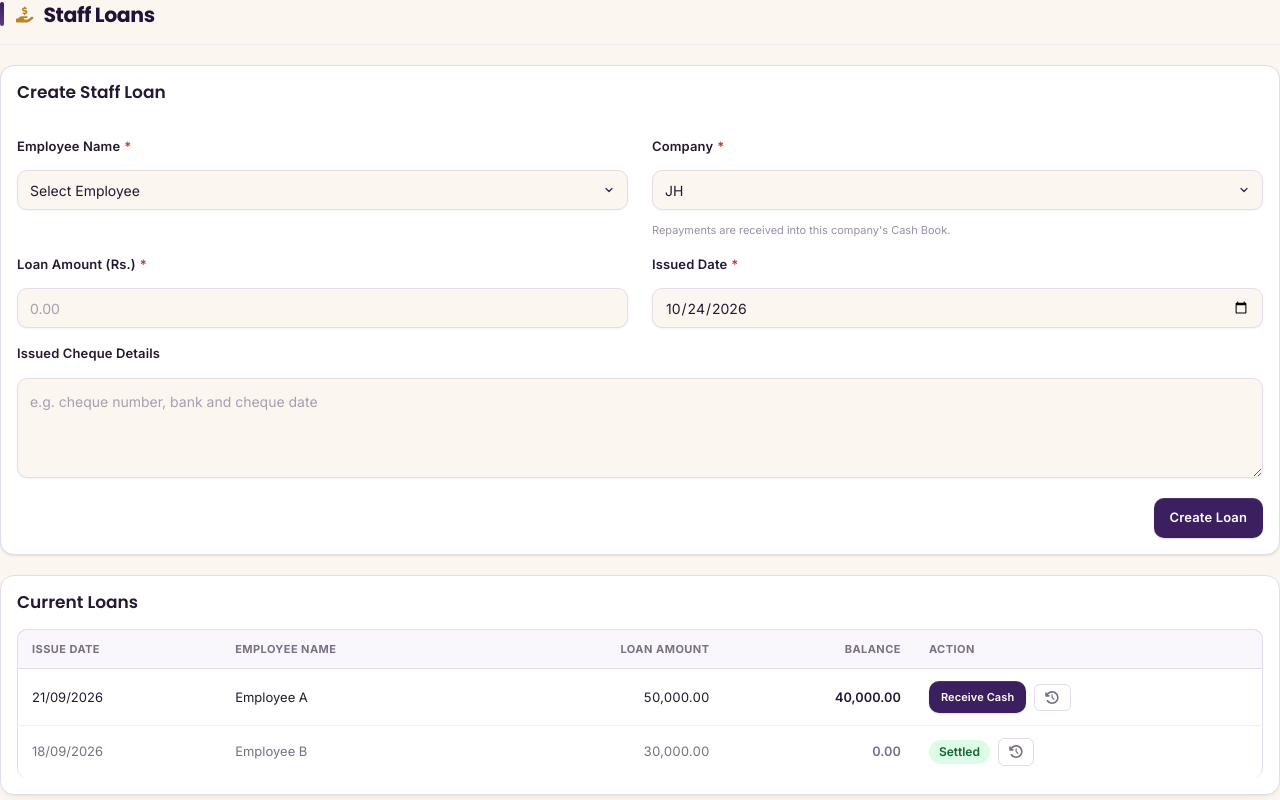
StaffLoans page › creating a loan posts the entered values and reloads the list from the API
Select "Employee A (EMP-001)" in the dropdown labelled "Employee Name *" at point(322, 190), box 17,170 -> 628,210
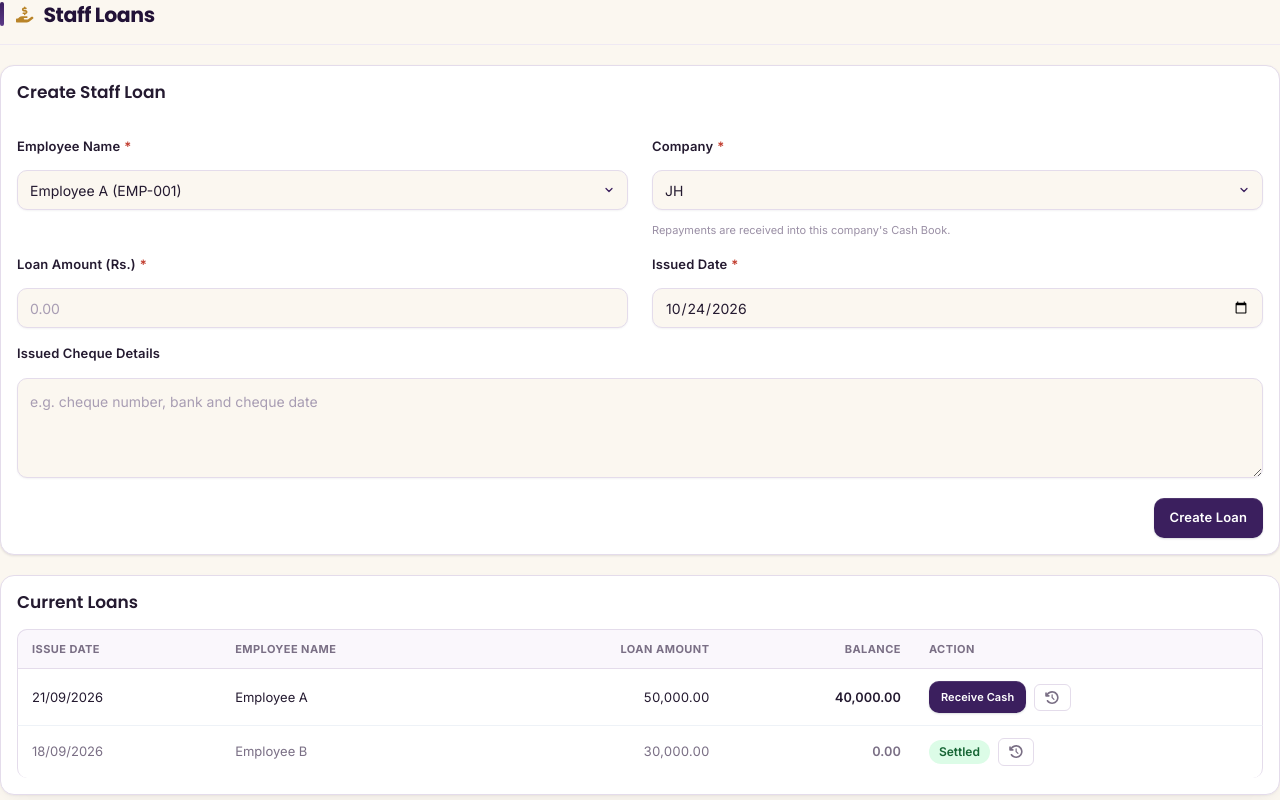
Type "50000" into the number field labelled "Loan Amount (Rs.) *" at point(322, 308), box 17,288 -> 628,328
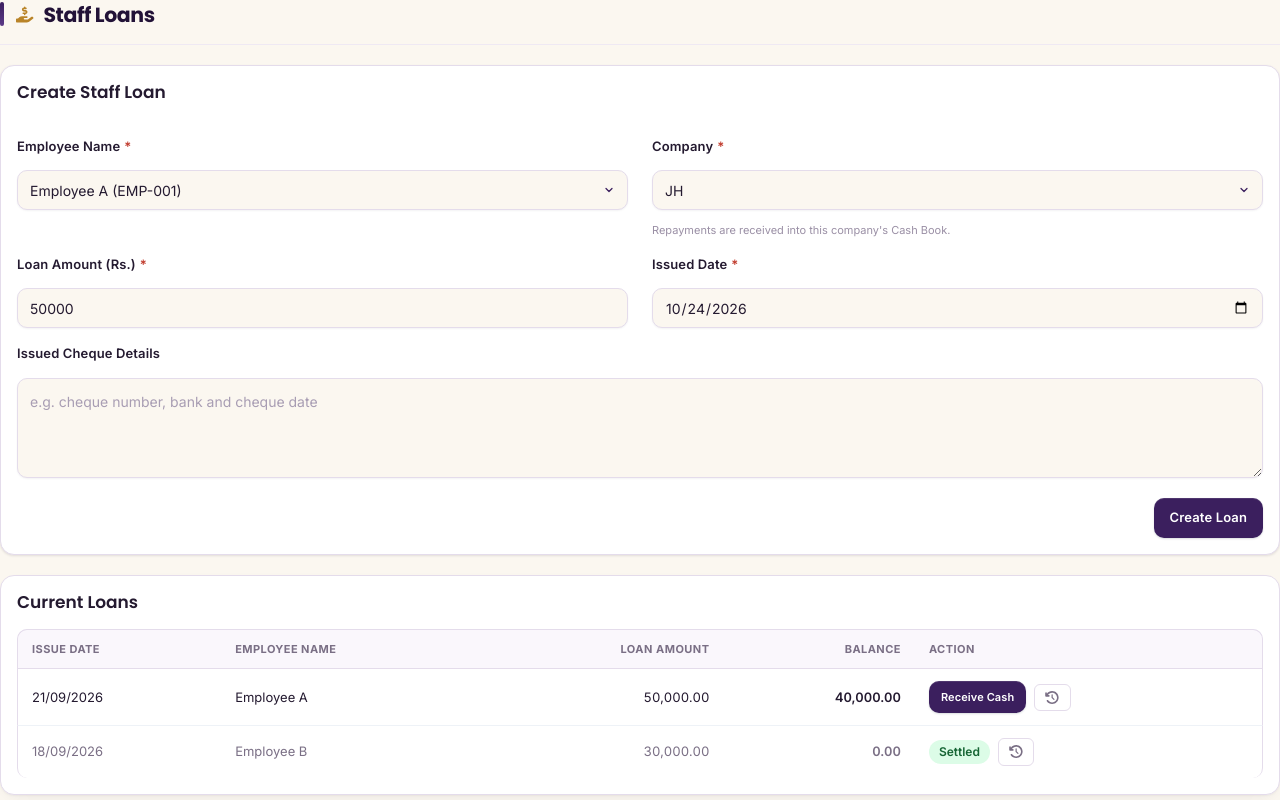
Type "2026-09-21" into the date field labelled "Issued Date *" at point(958, 308), box 652,288 -> 1263,328
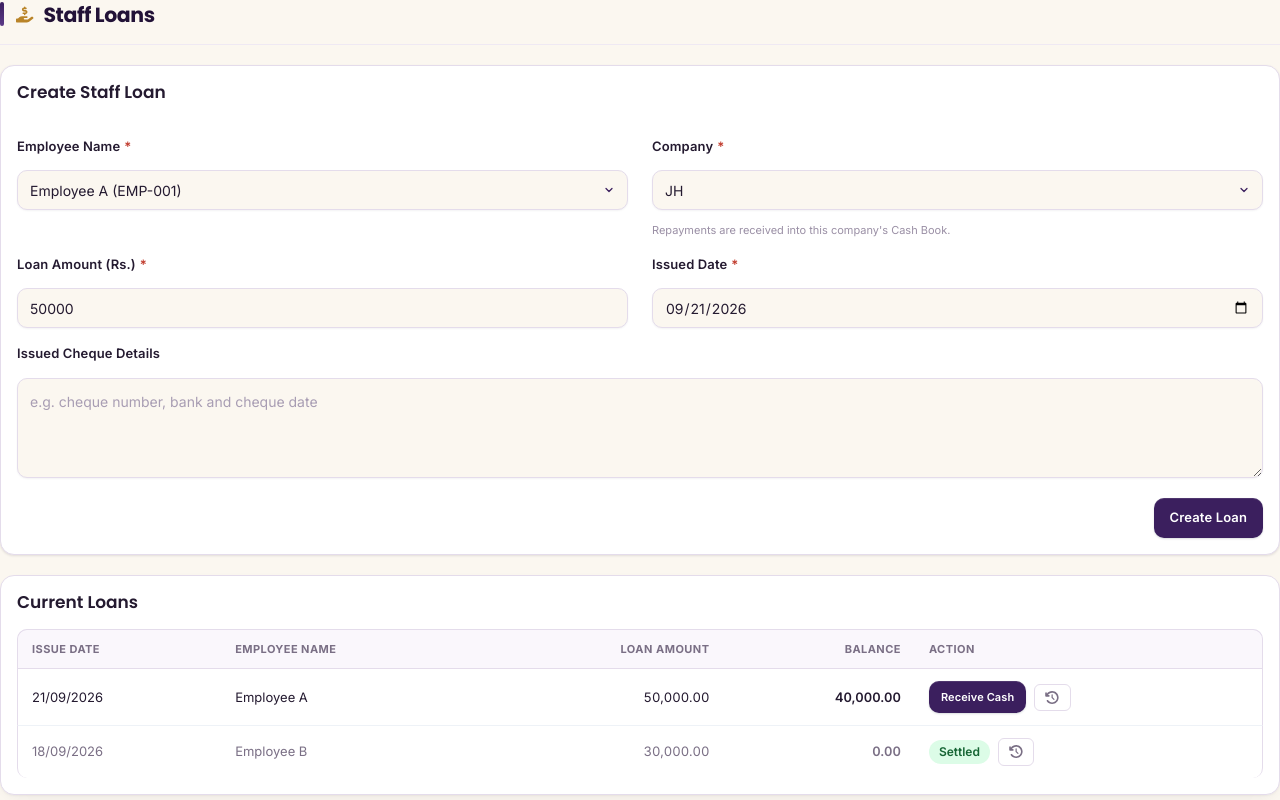
Type "CHQ 000123" into the text box labelled "Issued Cheque Details" at point(640, 428), box 17,378 -> 1263,478
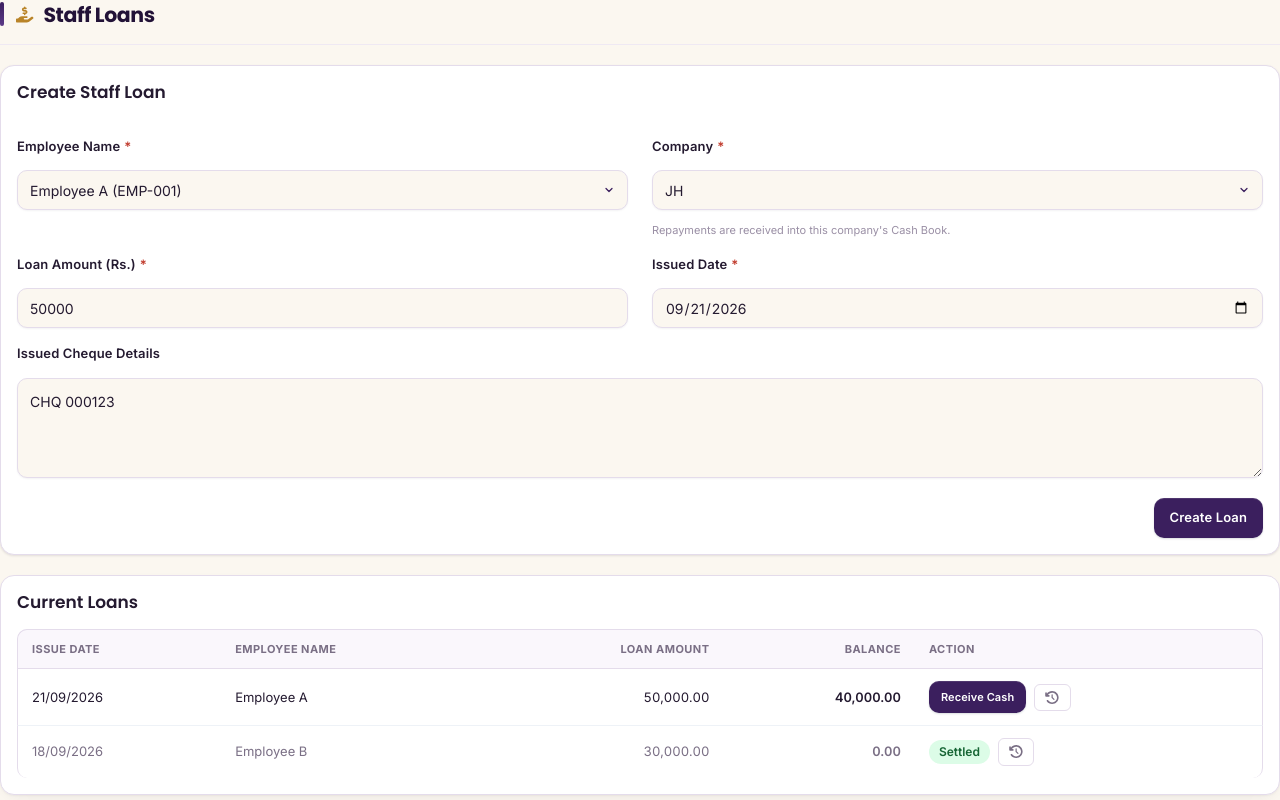
Click the button "Create Loan" at point(1208, 518), box 1154,498 -> 1263,538
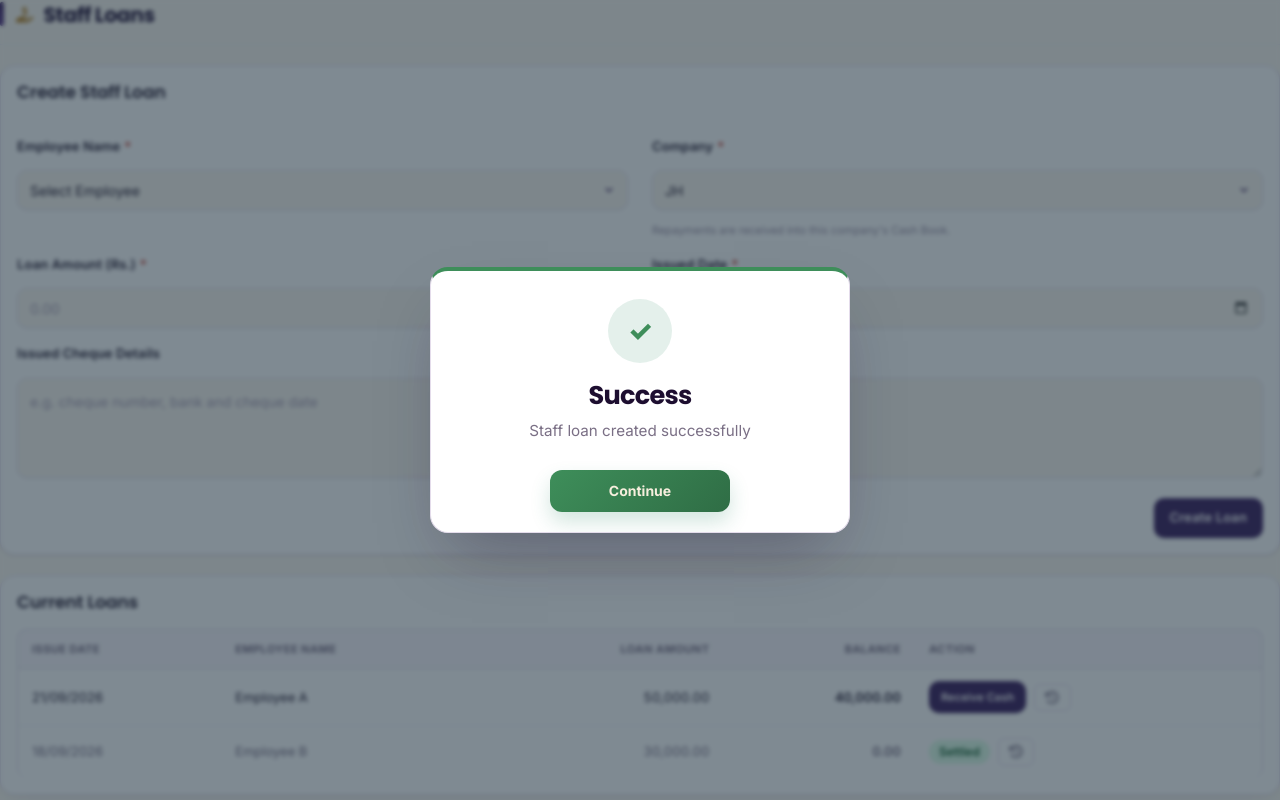
Expected: the text "Staff loan created successfully" is shown, 529,421 -> 751,440
